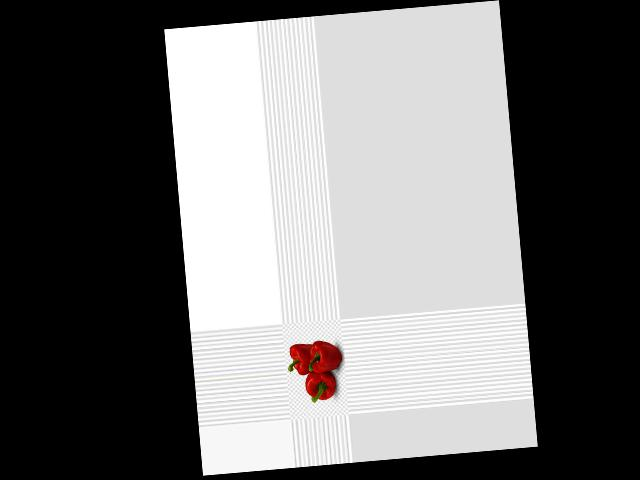bell_pepper: (300, 366, 340, 405)
